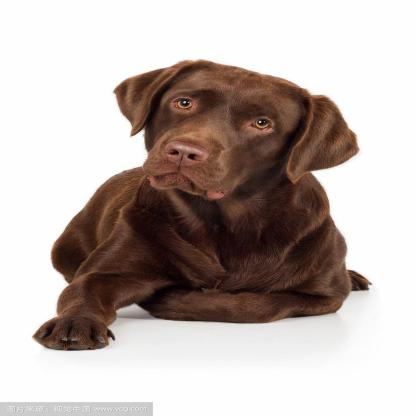dog: (32, 57, 374, 347)
